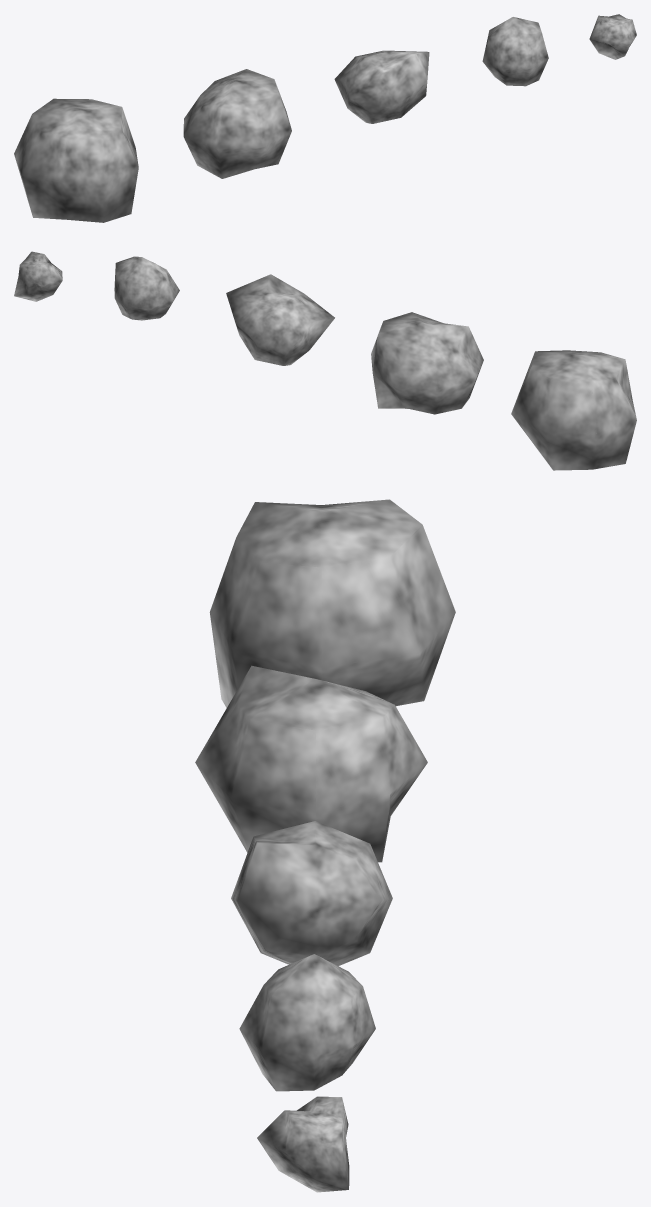
Rendered from PS7_style_low poly asteroids.fbx.
The picture shows the model from 3 angles, top to bottom: view 1: azimuth 30°, elevation 25°; view 2: azimuth 150°, elevation 25°; view 3: azimuth 270°, elevation 25°; orthographic projection. The views are drawn at different scales.
Visible parts, largest first — view 1: asteroid 01.005, asteroid 01.006, asteroid 01.007, asteroid 01.008, asteroid 01.009; view 2: asteroid 01.005, asteroid 01.006, asteroid 01.007, asteroid 01.008, asteroid 01.009; view 3: asteroid 01.005, asteroid 01.006, asteroid 01.007, asteroid 01.008, asteroid 01.009.
Boxes of the visible parts, bbox=[...] form: asteroid 01.005: bbox=[14, 98, 138, 222]; asteroid 01.006: bbox=[183, 69, 291, 178]; asteroid 01.007: bbox=[334, 50, 429, 123]; asteroid 01.008: bbox=[482, 17, 548, 86]; asteroid 01.009: bbox=[589, 14, 636, 59]; asteroid 01.005: bbox=[511, 350, 636, 470]; asteroid 01.006: bbox=[371, 312, 483, 414]; asteroid 01.007: bbox=[226, 274, 334, 365]; asteroid 01.008: bbox=[114, 256, 179, 320]; asteroid 01.009: bbox=[14, 251, 62, 301]; asteroid 01.005: bbox=[209, 499, 455, 707]; asteroid 01.006: bbox=[195, 665, 427, 862]; asteroid 01.007: bbox=[231, 821, 392, 965]; asteroid 01.008: bbox=[239, 954, 375, 1091]; asteroid 01.009: bbox=[257, 1096, 349, 1192].
Bounding box in the file's own units: 2068 × 325 × 385.
Materials: 1 (1 with a texture image).
